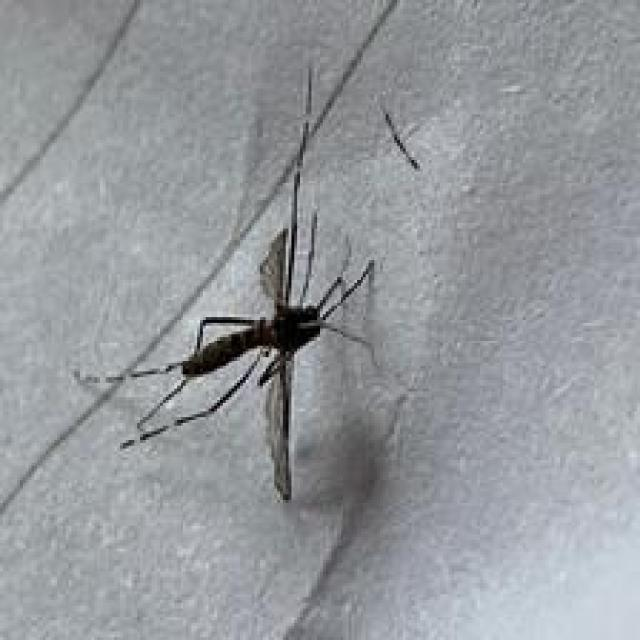Aedes albopictus: (77, 208, 380, 503)
